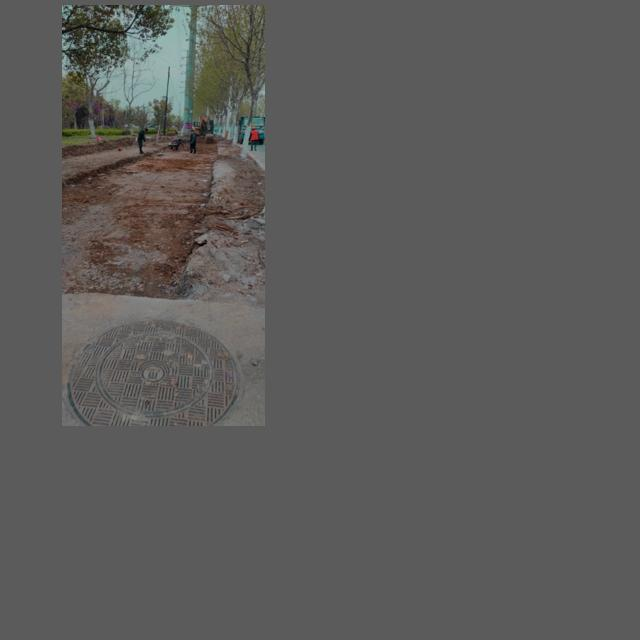good: (67, 314, 247, 426)
